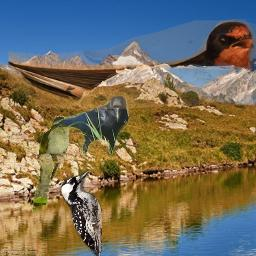Crow: (50, 95, 129, 157)
Cuckoo: (32, 116, 75, 213)
Swallow: (8, 19, 256, 109)
Woodpecker: (59, 169, 102, 256)
